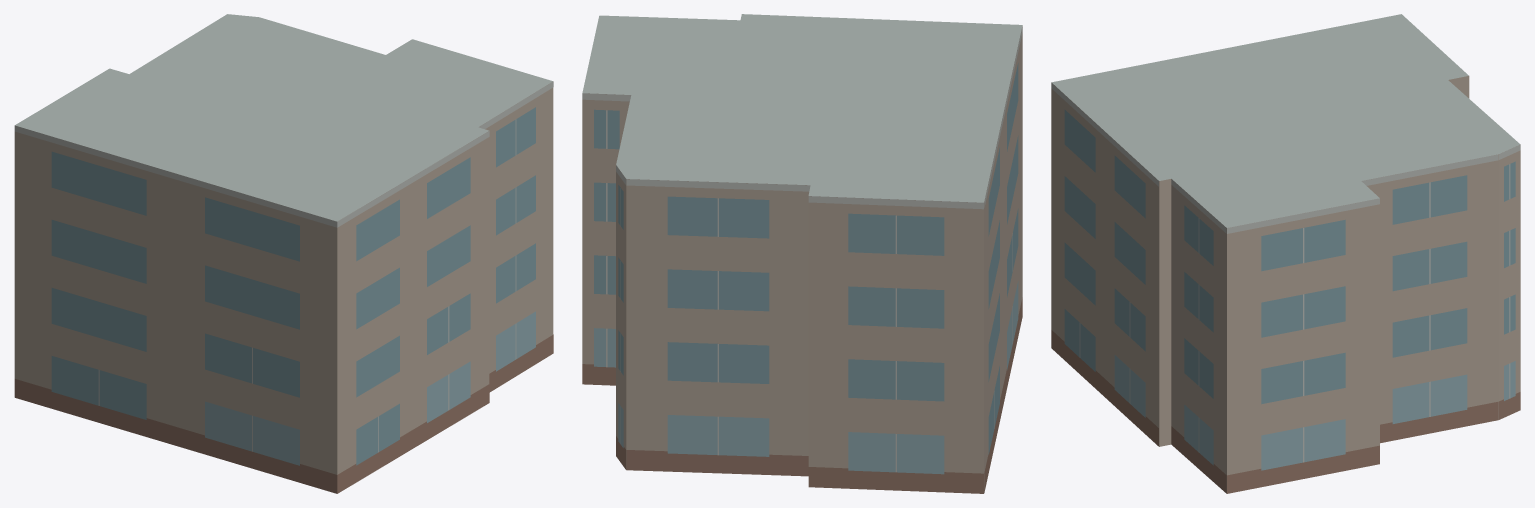
The model's file is survey-upis-32691468.glb.
3 views of the same model, side by side, from view 1: azimuth 30°, elevation 25°; view 2: azimuth 150°, elevation 25°; view 3: azimuth 270°, elevation 25° (orthographic). The views are drawn at different scales.
Parts seen in each view (by area): view 1: survey-upis-32691468.tmp; view 2: survey-upis-32691468.tmp; view 3: survey-upis-32691468.tmp.
Boxes of the visible parts, left/top/right/bottom form: survey-upis-32691468.tmp: left=14, top=14, right=553, bottom=493; survey-upis-32691468.tmp: left=582, top=14, right=1022, bottom=493; survey-upis-32691468.tmp: left=1051, top=14, right=1520, bottom=493.
Size of the model in its own units: 18.84 by 10.9 by 17.45.
